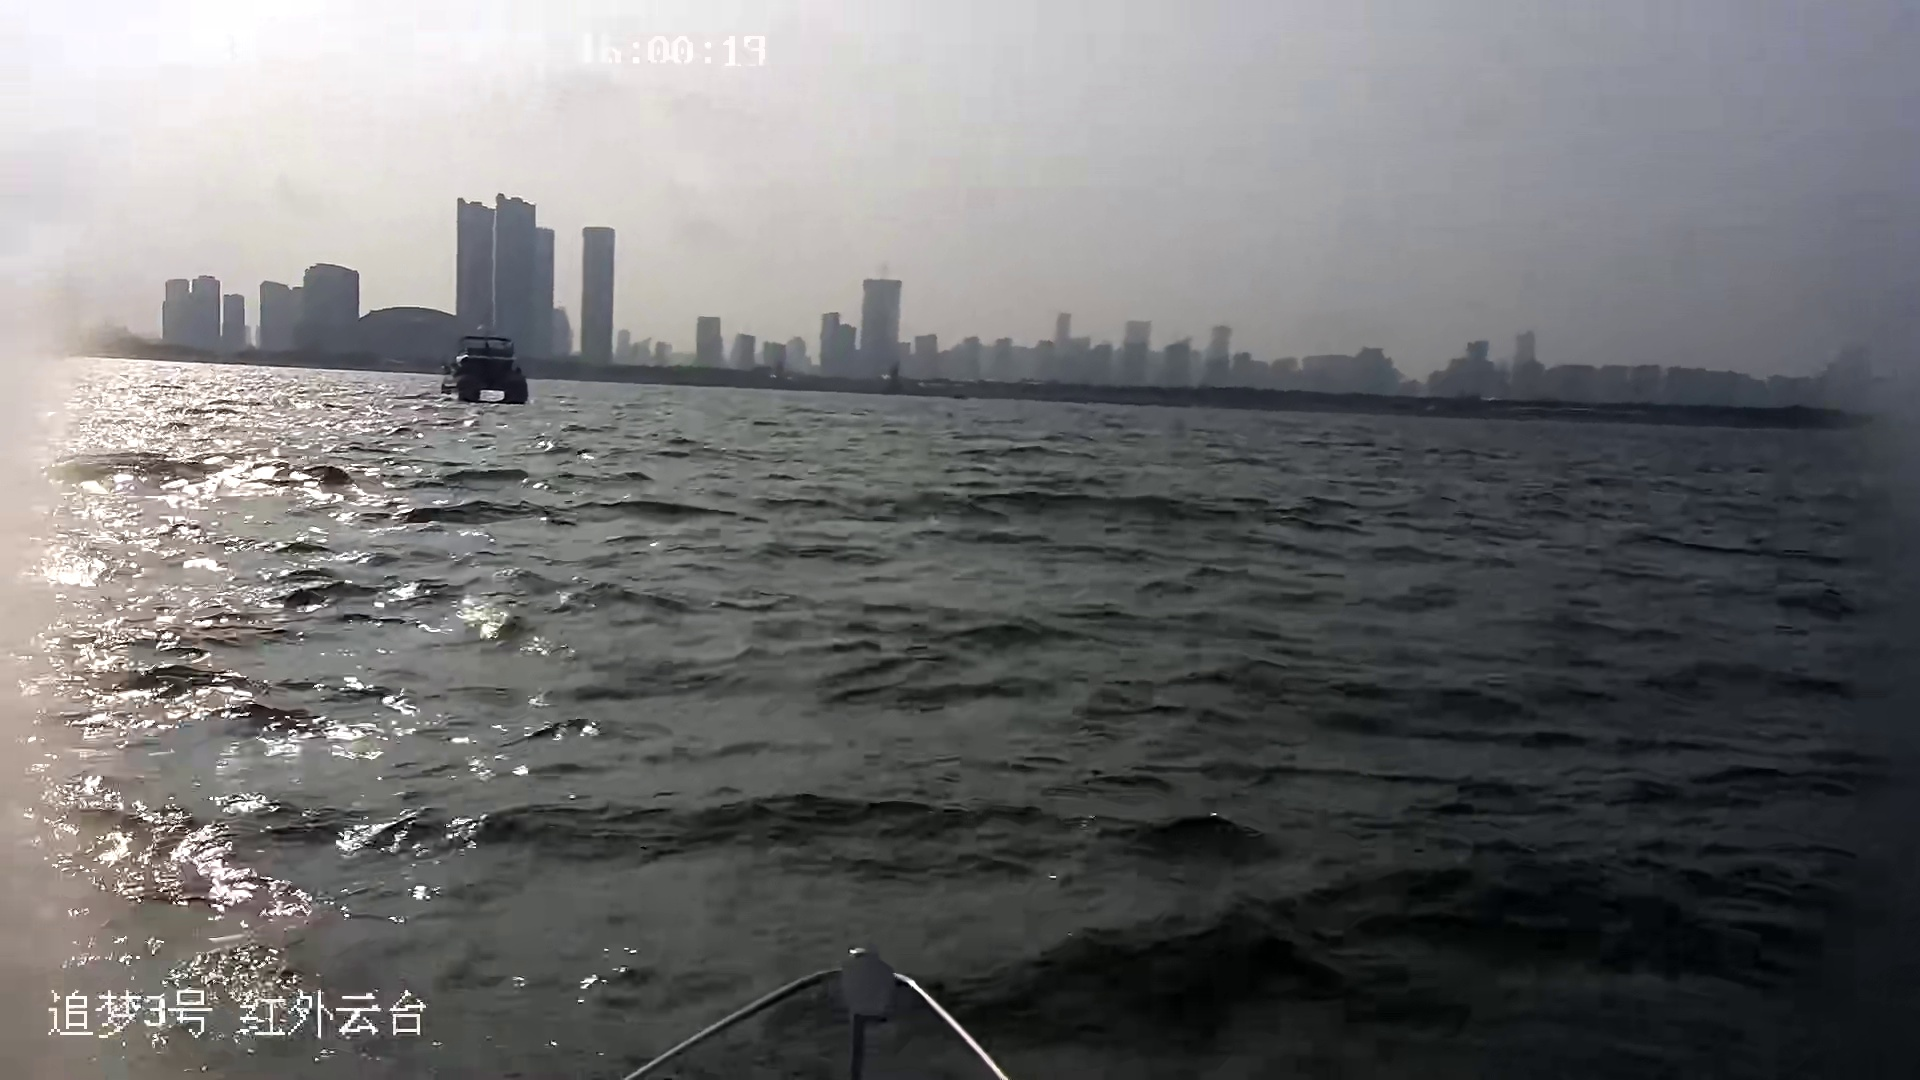barrier: (435, 335, 537, 410)
coast: (69, 178, 1908, 433)
